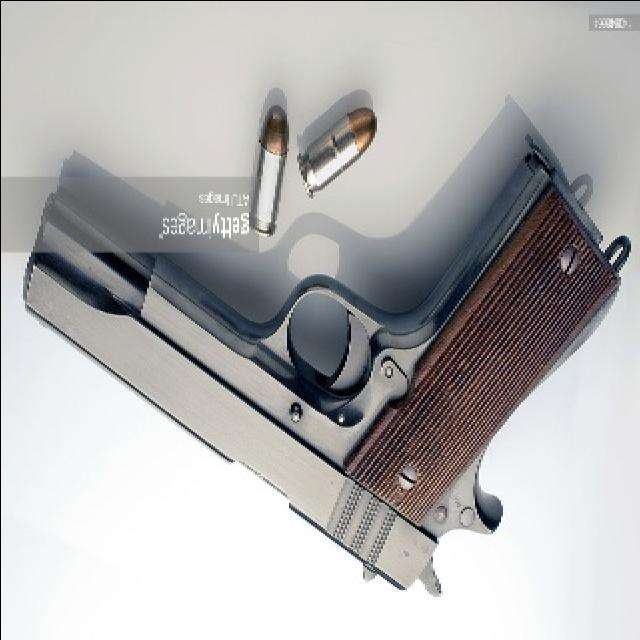handgun: (21, 141, 637, 606)
